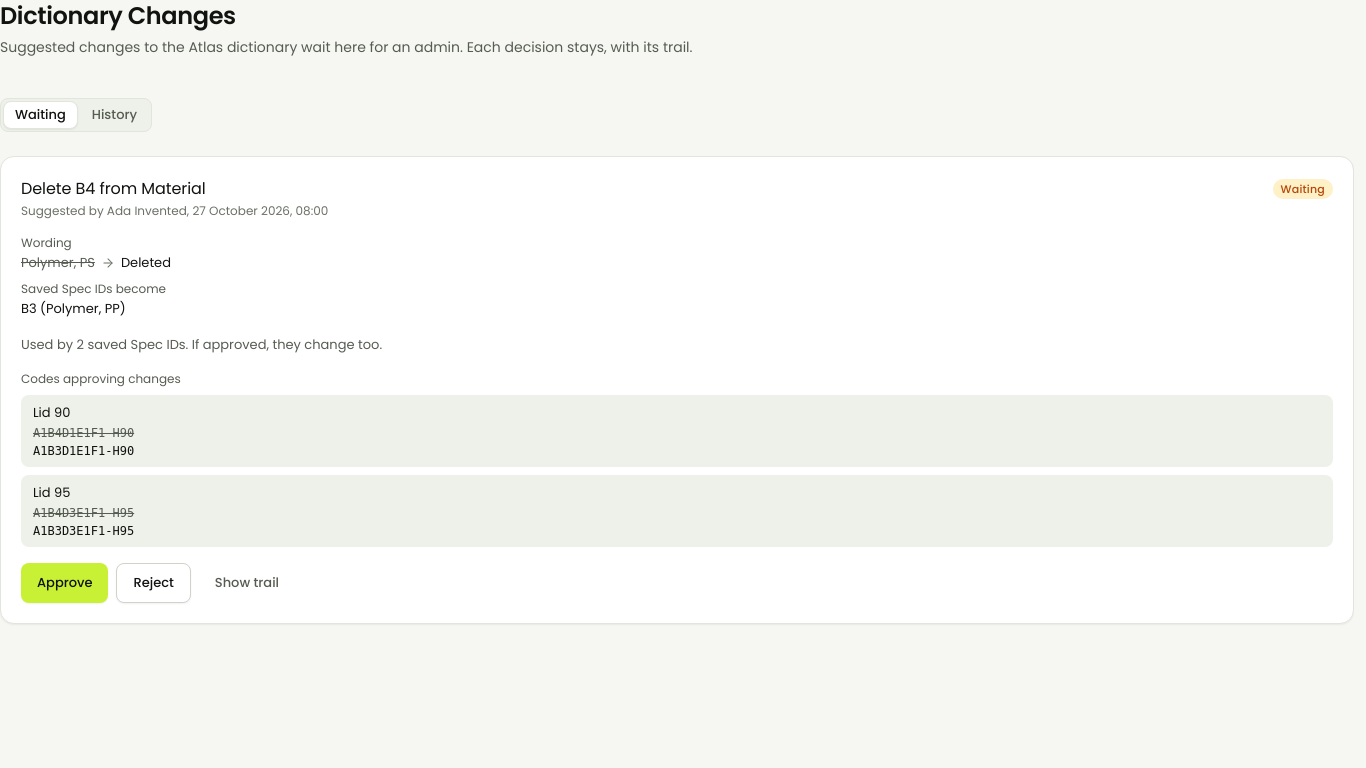
DictionaryChangesPage › answers a rejection without a reason under the field, in #95's words
Click the button "Reject": (154, 583) [116,563,191,603]
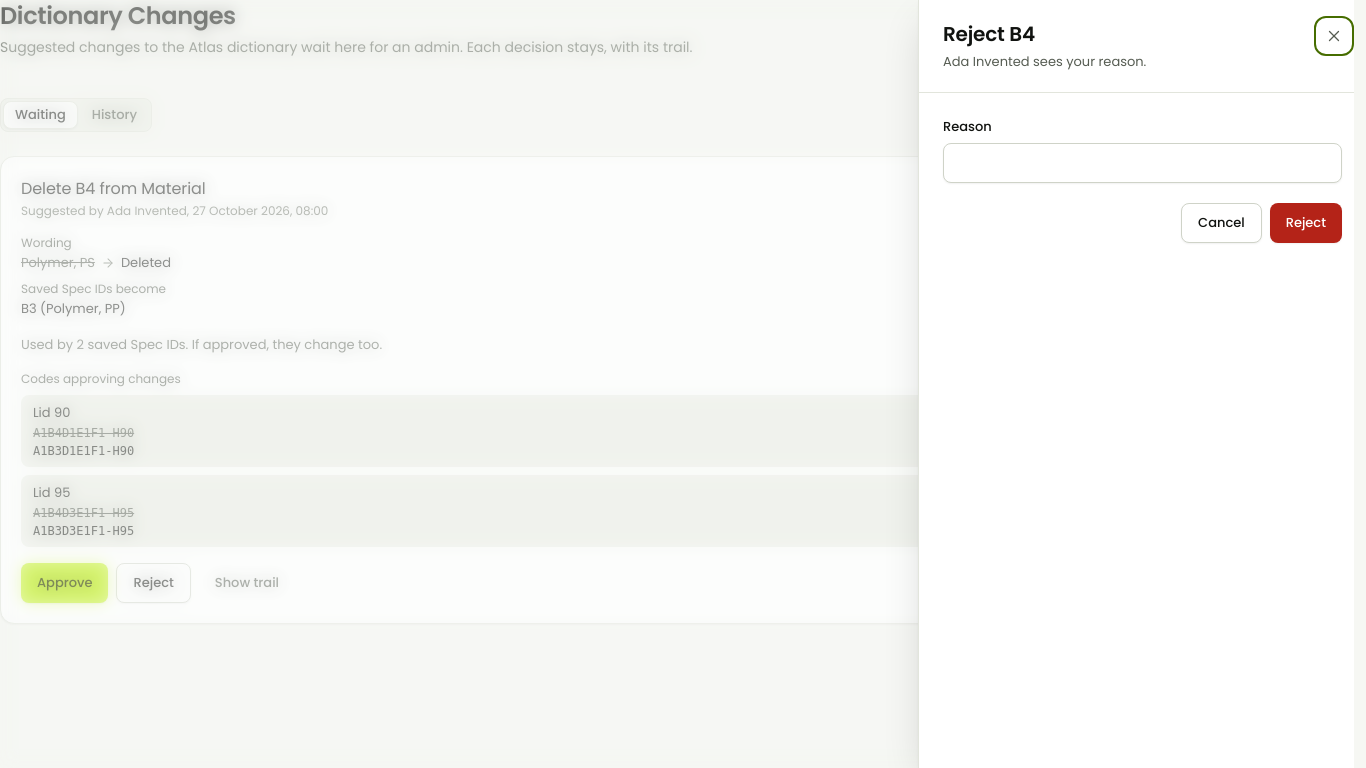
Click the button "Reject": (1306, 223) [1270,203,1342,243]
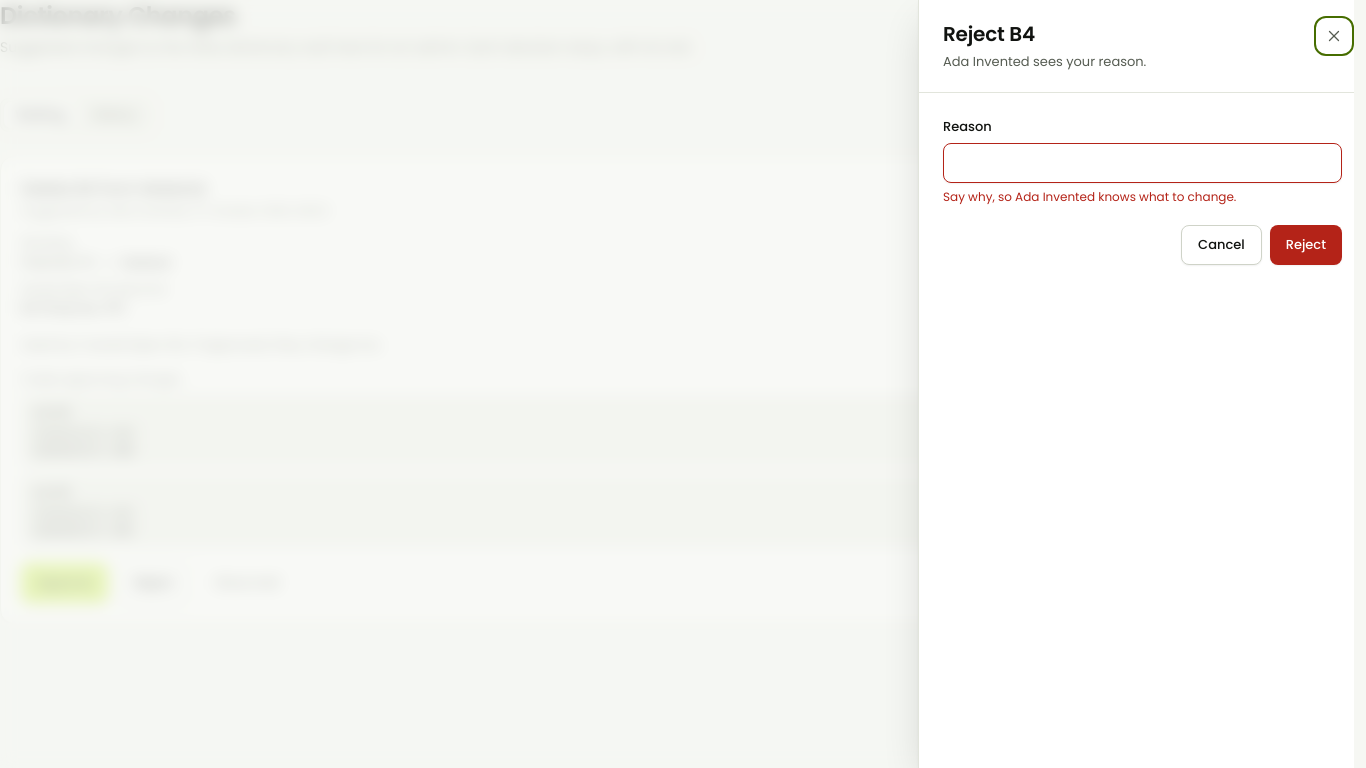
Check: the text "Say why, so Ada Invented knows what to change." is shown, box [943,188,1236,205]
